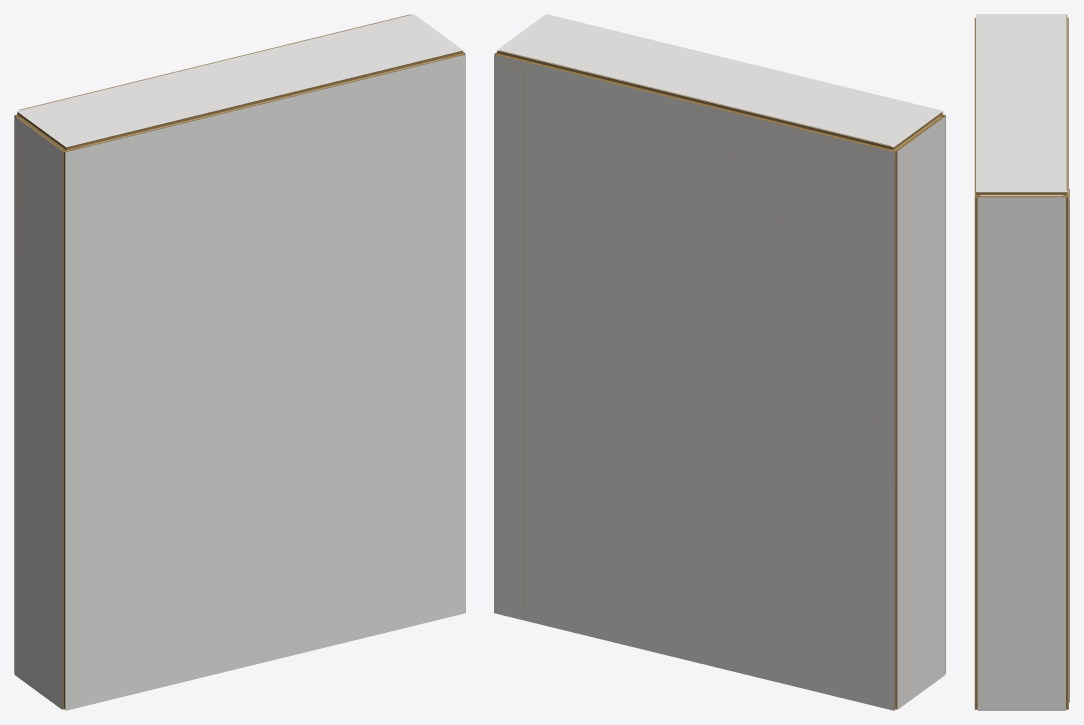
The model's file is tuck-carton.glb.
3 views of the same model, side by side, from view 1: azimuth 30°, elevation 25°; view 2: azimuth 150°, elevation 25°; view 3: azimuth 270°, elevation 25° (orthographic). The views are drawn at different scales.
Visible parts, largest first — view 1: FrontArtwork, LeftBoard, TopFlap, FrontBoard; view 2: BackBoard, LeftBoard, TopFlap, RearGlueSeam; view 3: RightBoard, TopFlap, FrontBoard, BackBoard, RearGlueSeam, TopHingeScore.
Part boxes in pixels (x1,y1,x2,y2): FrontArtwork: (66, 55, 465, 710); LeftBoard: (14, 116, 65, 709); TopFlap: (17, 14, 463, 150); FrontBoard: (63, 53, 465, 710); BackBoard: (494, 53, 896, 710); LeftBoard: (894, 116, 945, 709); TopFlap: (496, 14, 942, 150); RearGlueSeam: (498, 62, 523, 614); RightBoard: (977, 196, 1065, 710); TopFlap: (976, 14, 1067, 195); FrontBoard: (974, 17, 978, 709); BackBoard: (1065, 18, 1068, 709); RearGlueSeam: (1069, 189, 1069, 702); TopHingeScore: (1066, 15, 1067, 190).
Bounding box in the file's own units: 2.27 × 3.03 × 0.5045.
